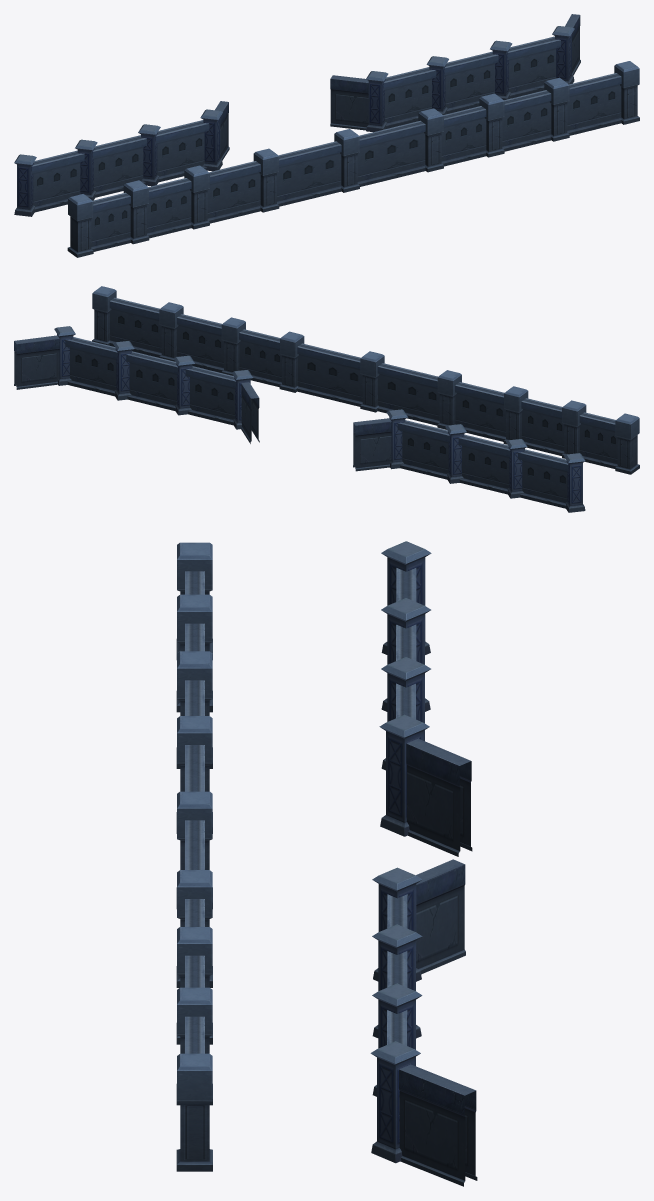
The model's file is Area_09_3.fbx.
3 views of the same model, one above another, from view 1: azimuth 30°, elevation 25°; view 2: azimuth 150°, elevation 25°; view 3: azimuth 270°, elevation 25° (orthographic). The views are drawn at different scales.
Visible parts, largest first — view 1: Area_09_3; view 2: Area_09_3; view 3: Area_09_3.
Part boxes in pixels (x1,y1,x2,y2): Area_09_3: (14, 14, 639, 257); Area_09_3: (14, 286, 639, 512); Area_09_3: (176, 541, 477, 1186).
Size of the model in its own units: 7806 by 701 by 1822.
